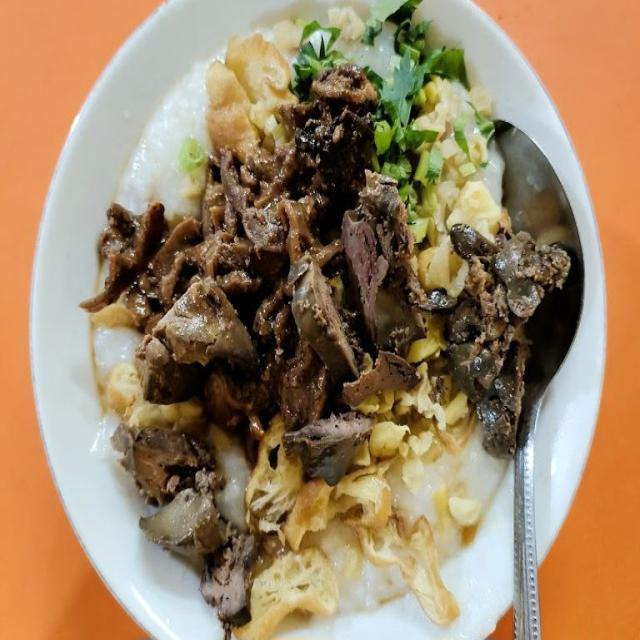bubur ayam: (85, 0, 528, 619)
mangkuk: (29, 2, 592, 640)
